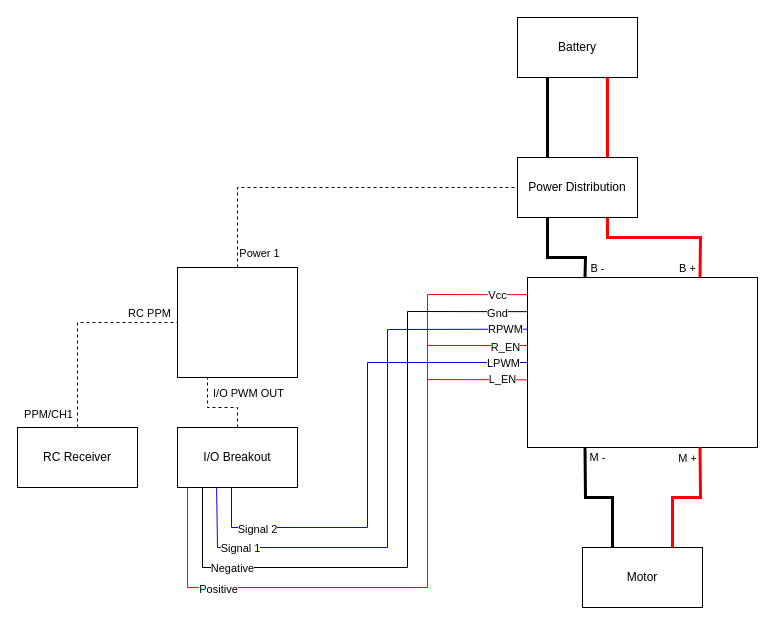
Some shapes in this 775 by 625 pixel diagram are drawn without their labels. Each missing label, with the centre of its shape:
"H-Bridge/ESC" belongs at point 642,362.
"Pixhawk" belongs at point 237,322.
